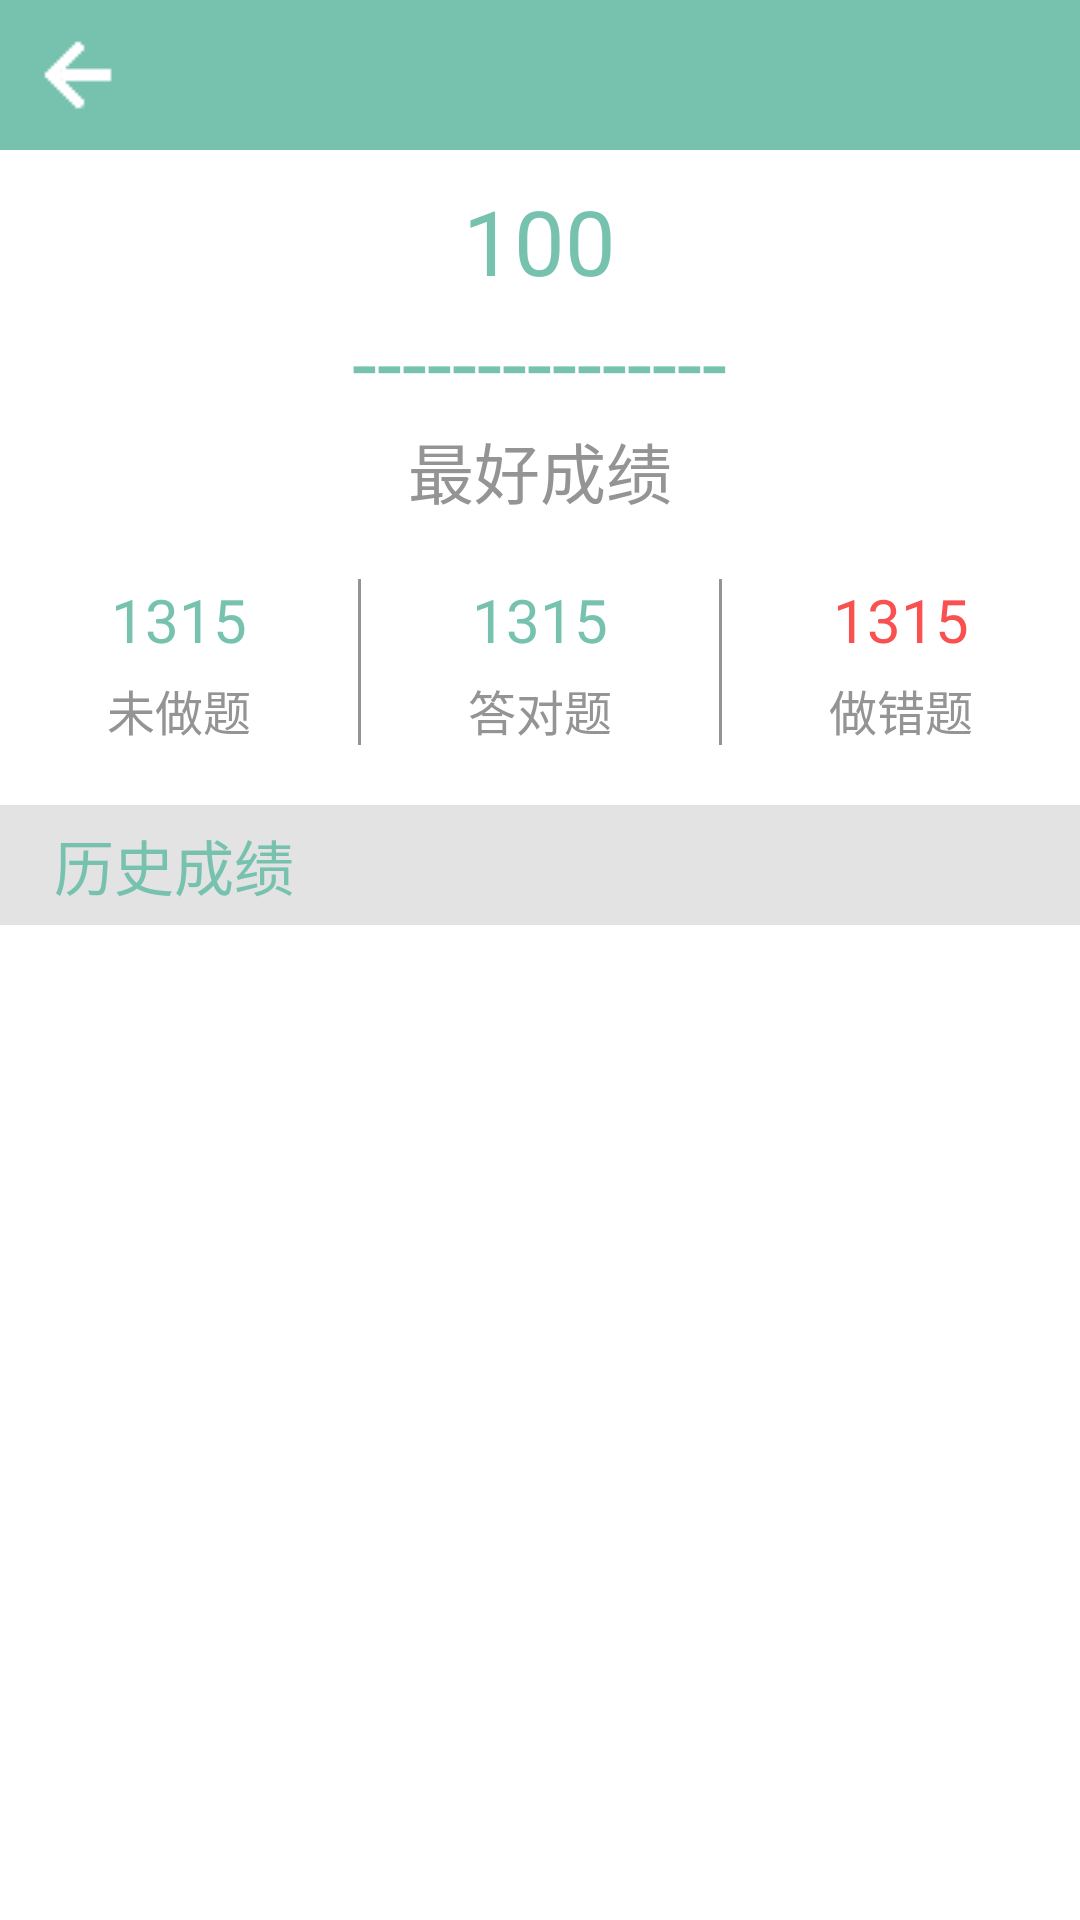

Locate icon controls on the screen. Image size 1080x1920, boxes as bbox=[x1, y1, x2, y2].
back: bbox=[44, 41, 112, 109]
